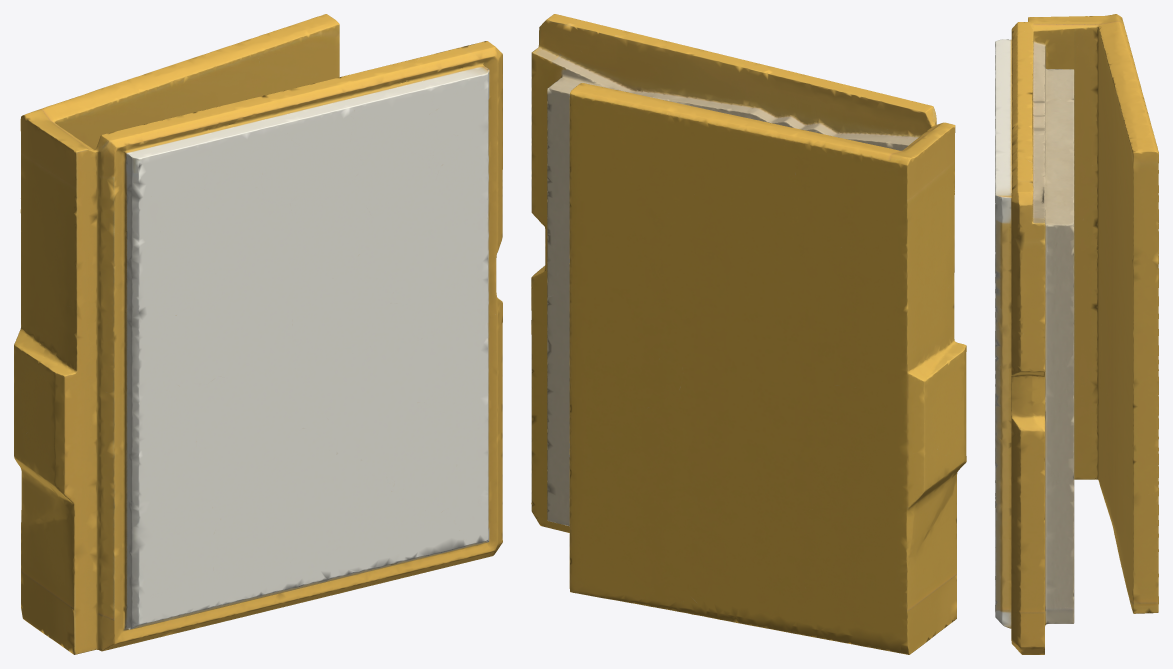
File: CaseFolder.fbx
3 views of the same model, side by side, from view 1: azimuth 30°, elevation 25°; view 2: azimuth 150°, elevation 25°; view 3: azimuth 270°, elevation 25° (orthographic). The views are drawn at different scales.
Visible parts, largest first — view 1: mesh_node; view 2: mesh_node; view 3: mesh_node.
Boxes of the visible parts, left/top/right/bottom form: mesh_node: left=14, top=14, right=502, bottom=654; mesh_node: left=531, top=14, right=966, bottom=654; mesh_node: left=995, top=14, right=1158, bottom=654.
Size of the model in its own units: 170 by 190 by 60.93.
Materials: 1 (1 with a texture image).
